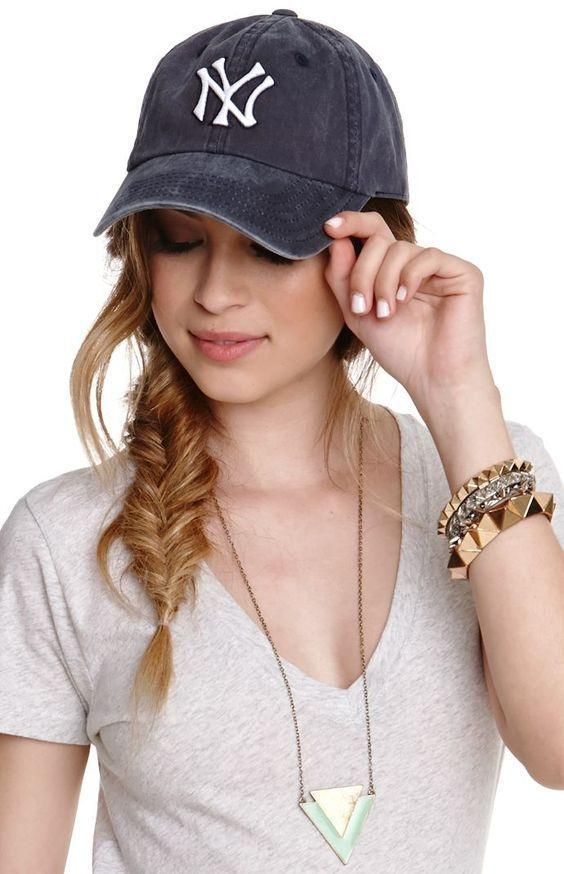cap: (78, 3, 440, 278)
